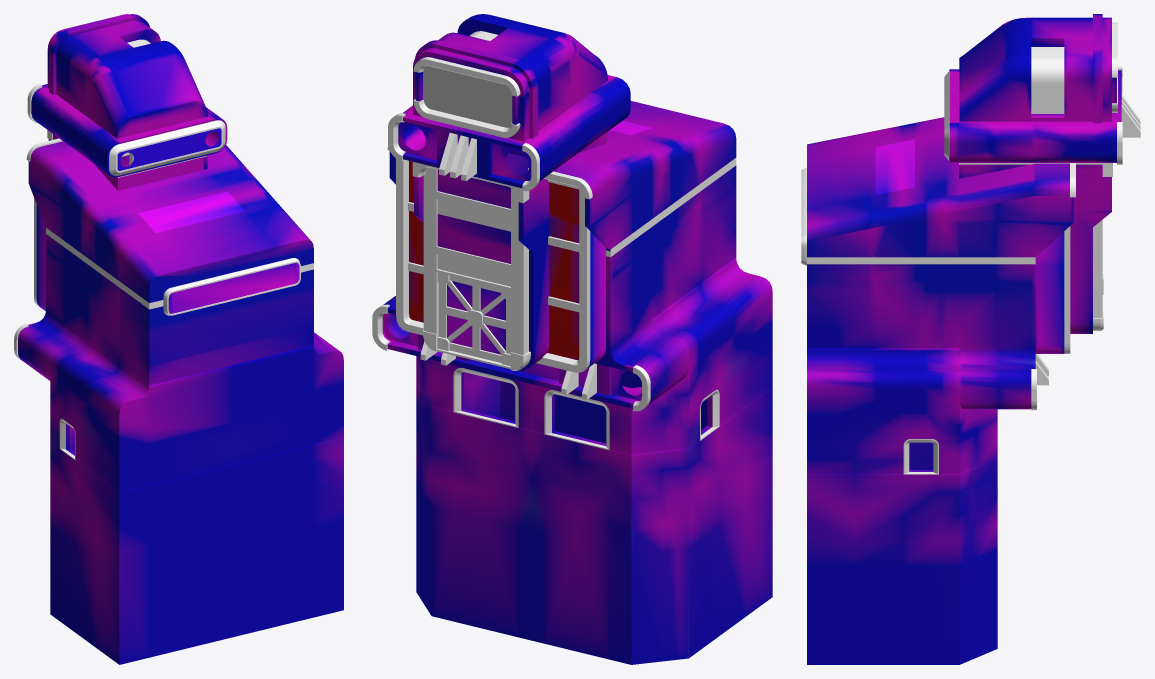
The model's file is Level_01_Building_C_Shell_A.fbx.
The picture shows the model from 3 angles, left to right: view 1: azimuth 30°, elevation 25°; view 2: azimuth 150°, elevation 25°; view 3: azimuth 270°, elevation 25°; orthographic projection. The views are drawn at different scales.
Visible parts, largest first — view 1: Geometry_Level_01_Building_C_Shell_Part_A_LOD00, Geometry_Level_01_Building_C_Shell_Part_B_LOD00; view 2: Geometry_Level_01_Building_C_Shell_Part_A_LOD00, Geometry_Level_01_Building_C_Shell_Part_B_LOD00; view 3: Geometry_Level_01_Building_C_Shell_Part_A_LOD00, Geometry_Level_01_Building_C_Shell_Part_B_LOD00.
Boxes of the visible parts, x1,y1,x2,y2 form: Geometry_Level_01_Building_C_Shell_Part_A_LOD00: (18,14,343,664); Geometry_Level_01_Building_C_Shell_Part_B_LOD00: (14,39,313,460); Geometry_Level_01_Building_C_Shell_Part_A_LOD00: (382,14,772,664); Geometry_Level_01_Building_C_Shell_Part_B_LOD00: (372,31,736,450); Geometry_Level_01_Building_C_Shell_Part_A_LOD00: (807,14,1121,664); Geometry_Level_01_Building_C_Shell_Part_B_LOD00: (801,22,1140,474).
Size of what is drawn, in the model's own units: 3031 by 6613 by 3559.
